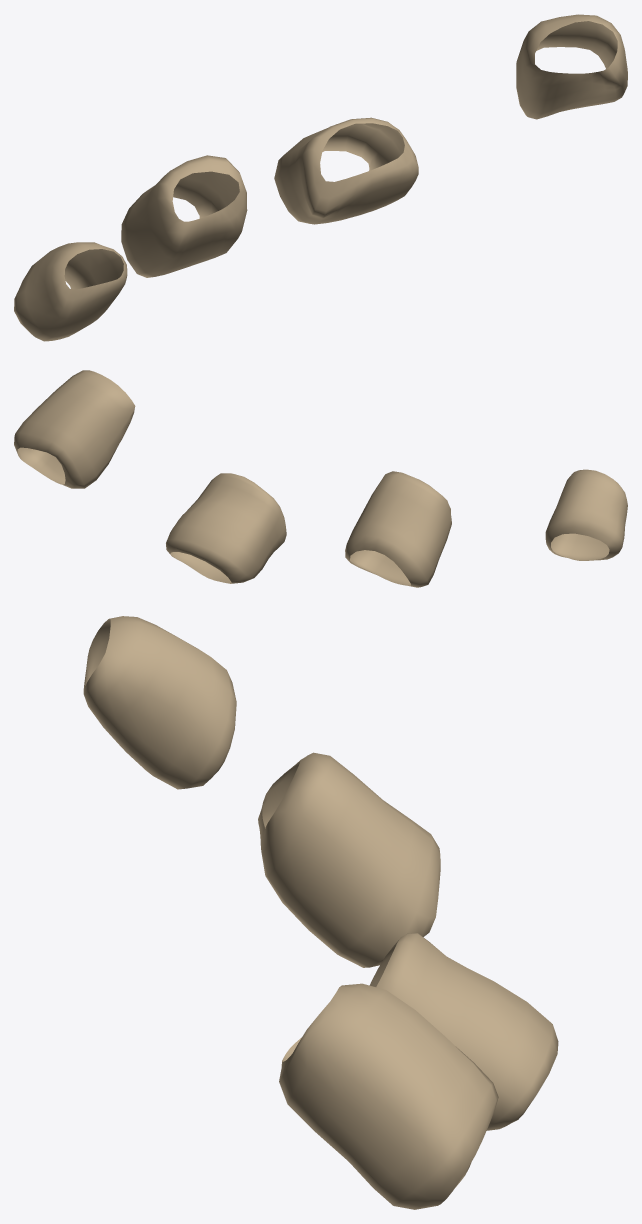
The picture shows the model from 3 angles, top to bottom: view 1: azimuth 30°, elevation 25°; view 2: azimuth 150°, elevation 25°; view 3: azimuth 270°, elevation 25°; orthographic projection. The views are drawn at different scales.
Parts seen in each view (by area): view 1: 左侧手近侧指间关节囊; view 2: 左侧手近侧指间关节囊; view 3: 左侧手近侧指间关节囊.
Part boxes in pixels (<box>): 左侧手近侧指间关节囊: <box>14,14,627,341</box>; 左侧手近侧指间关节囊: <box>14,370,627,587</box>; 左侧手近侧指间关节囊: <box>83,616,558,1209</box>.
Bounding box in the file's own units: 0.1307 × 0.0318 × 0.0498.
